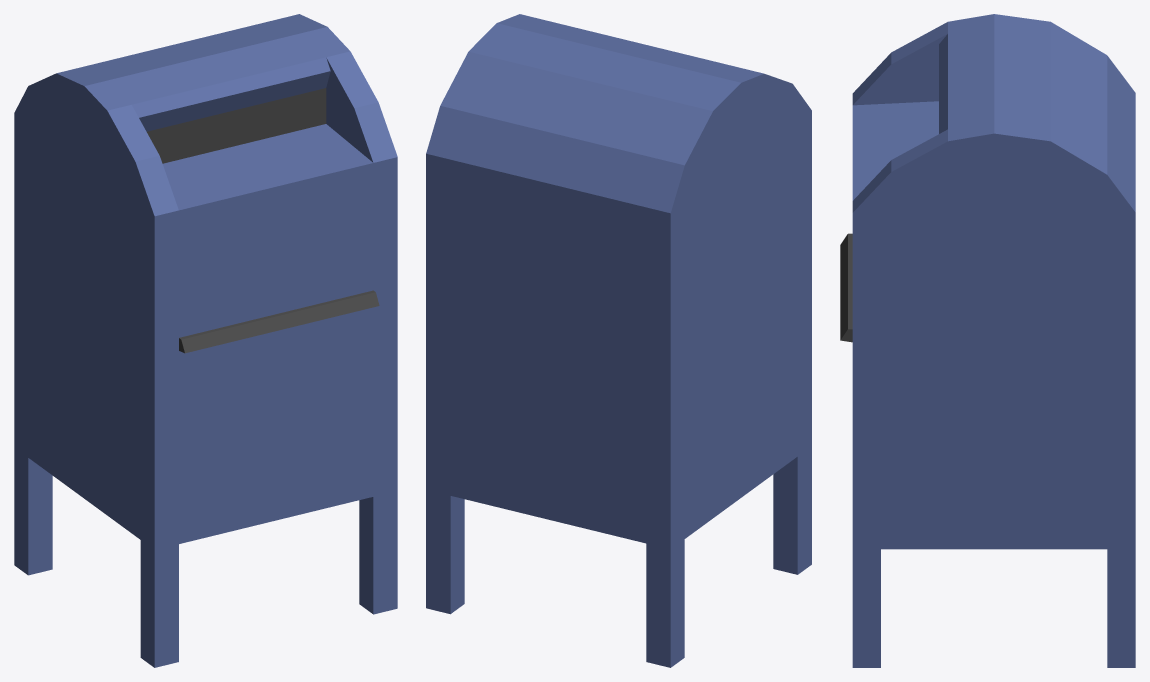
The model's file is Blue Mail Box.fbx.
3 views of the same model, side by side, from view 1: azimuth 30°, elevation 25°; view 2: azimuth 150°, elevation 25°; view 3: azimuth 270°, elevation 25° (orthographic).
Parts seen in each view (by area): view 1: News_Box_1___Copy_pCube5; view 2: News_Box_1___Copy_pCube5; view 3: News_Box_1___Copy_pCube5.
Boxes of the visible parts, left/top/right/bottom form: News_Box_1___Copy_pCube5: left=14, top=14, right=397, bottom=667; News_Box_1___Copy_pCube5: left=426, top=14, right=811, bottom=667; News_Box_1___Copy_pCube5: left=840, top=14, right=1135, bottom=667.
Bounding box in the file's own units: 0.6168 × 1.29 × 0.6437.
